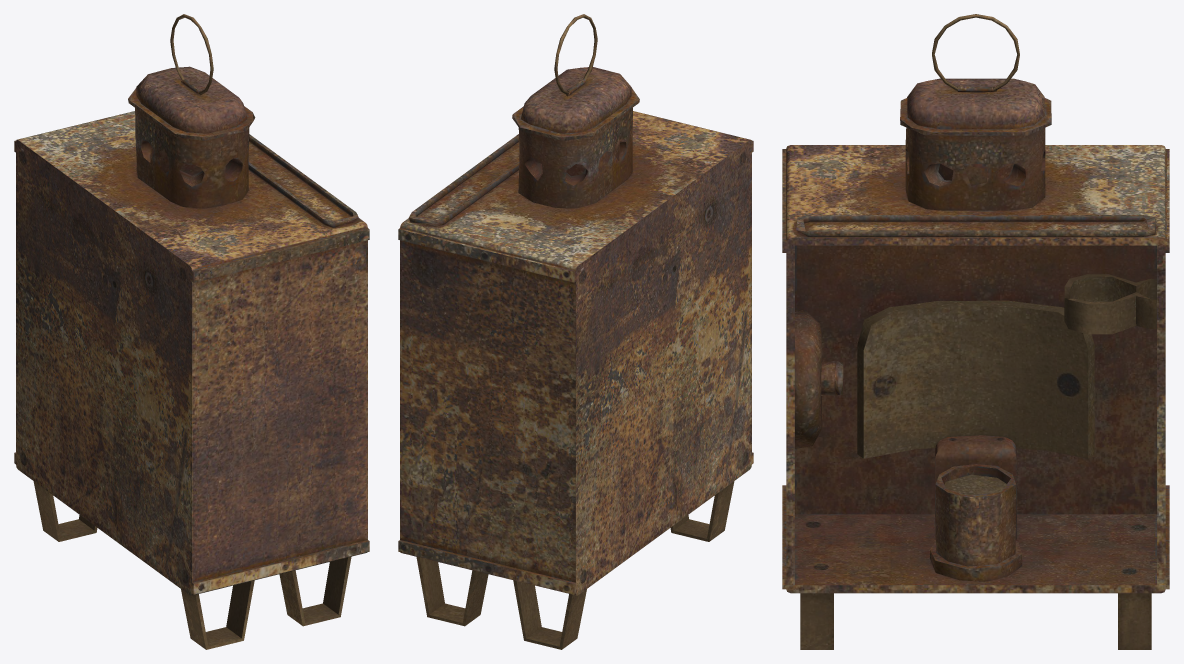
File: SM_LaternBox01.glb
The picture shows the model from 3 angles, left to right: view 1: azimuth 30°, elevation 25°; view 2: azimuth 150°, elevation 25°; view 3: azimuth 270°, elevation 25°; orthographic projection. The views are drawn at different scales.
Visible parts, largest first — view 1: SM_LaternBox01; view 2: SM_LaternBox01; view 3: SM_LaternBox01.
Part boxes in pixels (x1,y1,x2,y2): SM_LaternBox01: [14, 14, 369, 649]; SM_LaternBox01: [398, 14, 753, 649]; SM_LaternBox01: [782, 14, 1169, 649].
Size of the model in its own units: 0.1221 by 0.3688 by 0.2155.
Materials: 1 (1 with a texture image).
